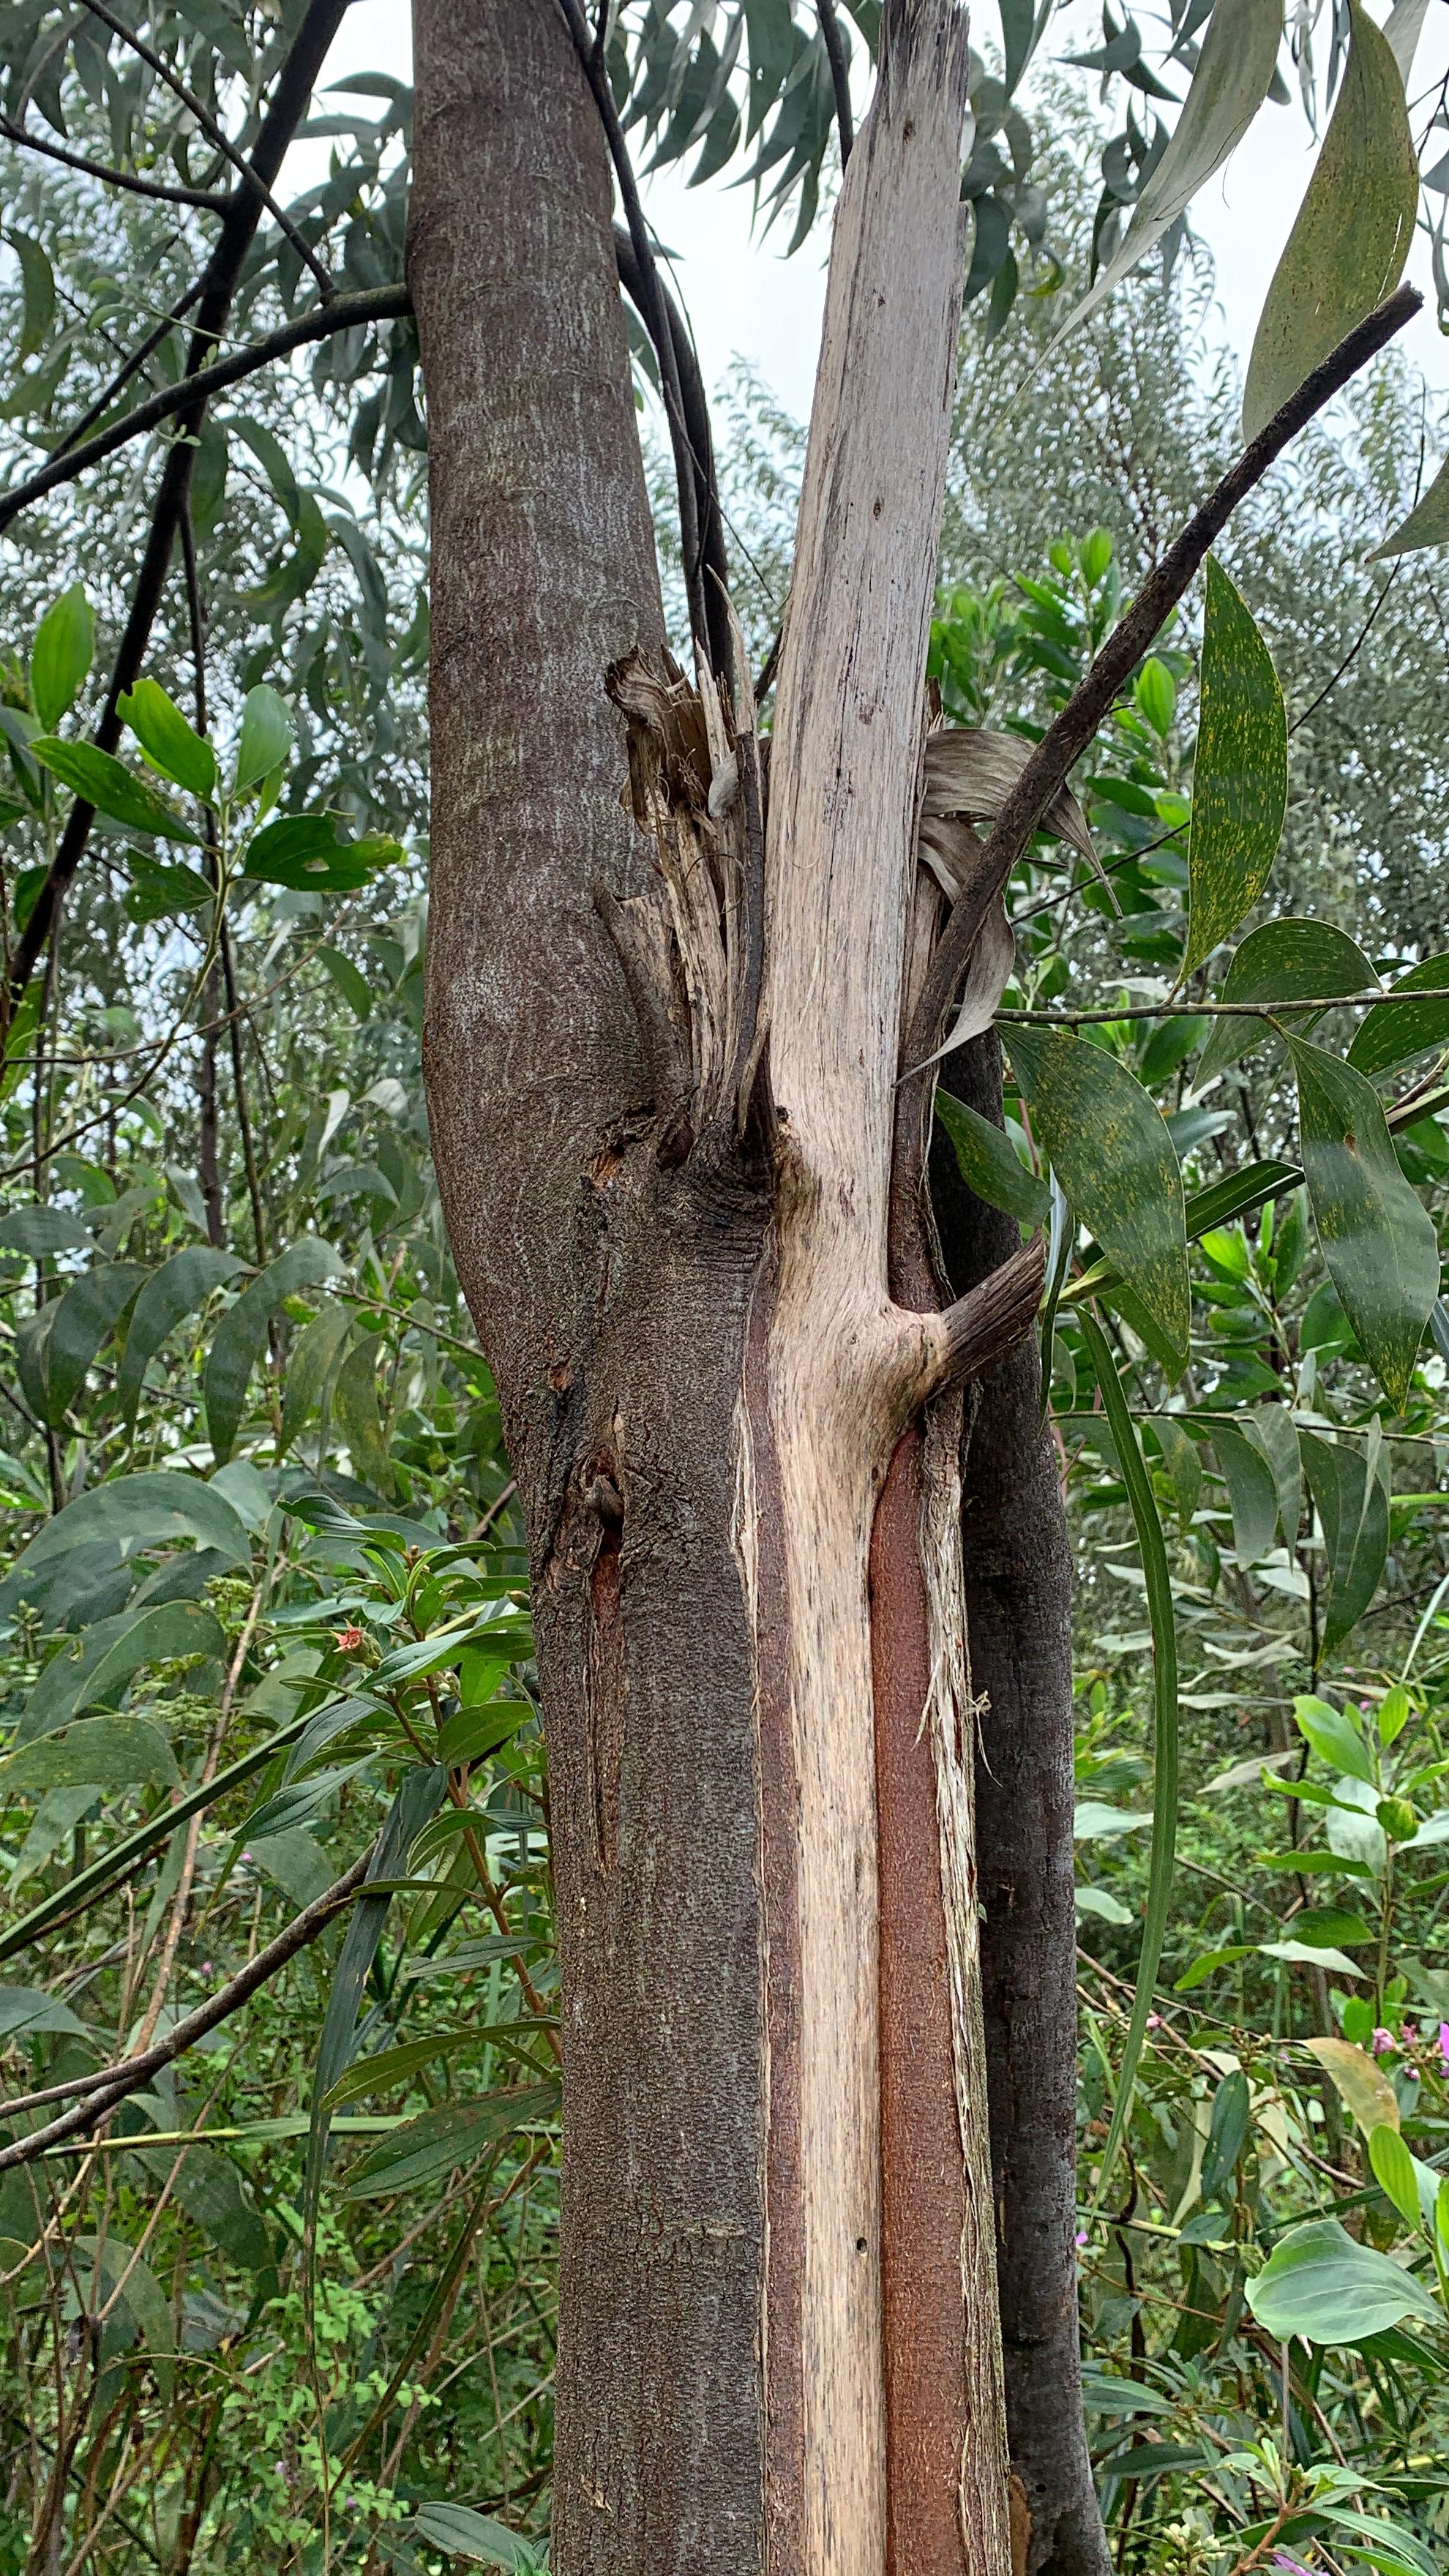Mammals Attack: (695, 1417, 1051, 2574), (610, 625, 1097, 1208)
